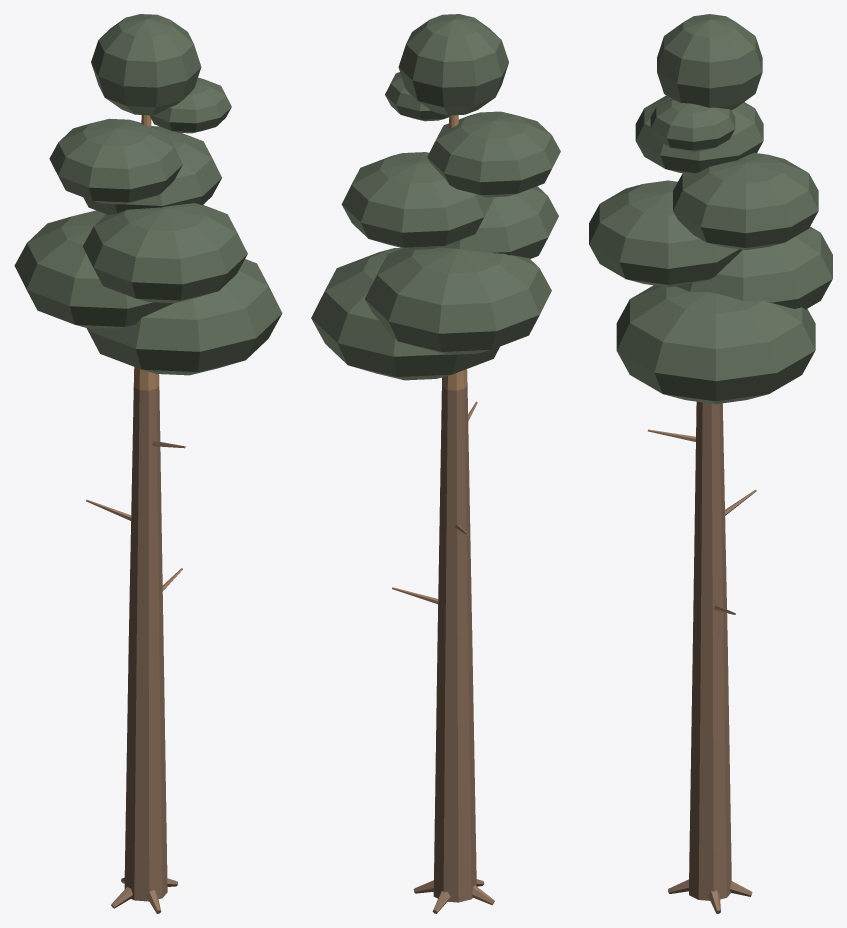
Rendered from TallPineB.fbx.
3 renders of one model, left to right at view 1: azimuth 30°, elevation 25°; view 2: azimuth 150°, elevation 25°; view 3: azimuth 270°, elevation 25°, orthographic.
Visible parts, largest first — view 1: TallPineB; view 2: TallPineB; view 3: TallPineB.
Part boxes in pixels (x1,y1,x2,y2): TallPineB: (14, 14, 282, 913); TallPineB: (311, 14, 560, 913); TallPineB: (589, 14, 832, 913).
Size of the model in its own units: 381 by 1395 by 351.
